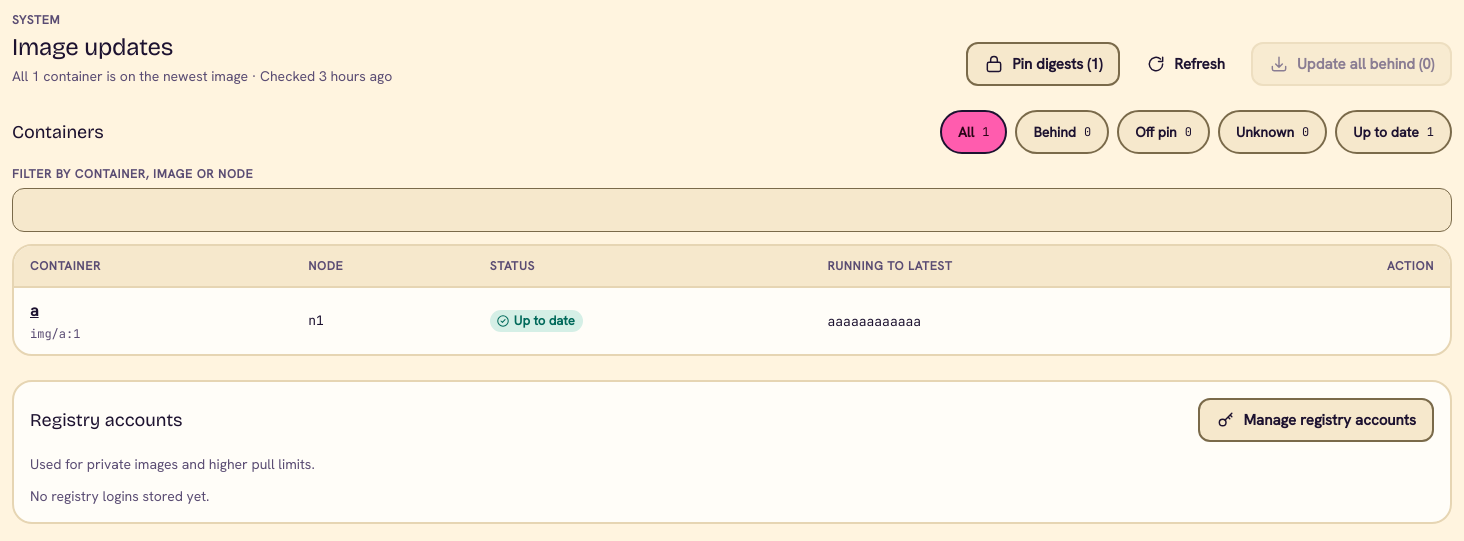
Test: Updates page › shows when the registries were last checked and refreshes on request
The image size is (1464, 541).
Expected: the text "All 1 container is on the newest image · Checked 3 hours ago" is shown, [12,66,392,86]
Click the button "Refresh" at x=1186, y=64, box [1128,42,1243,86]
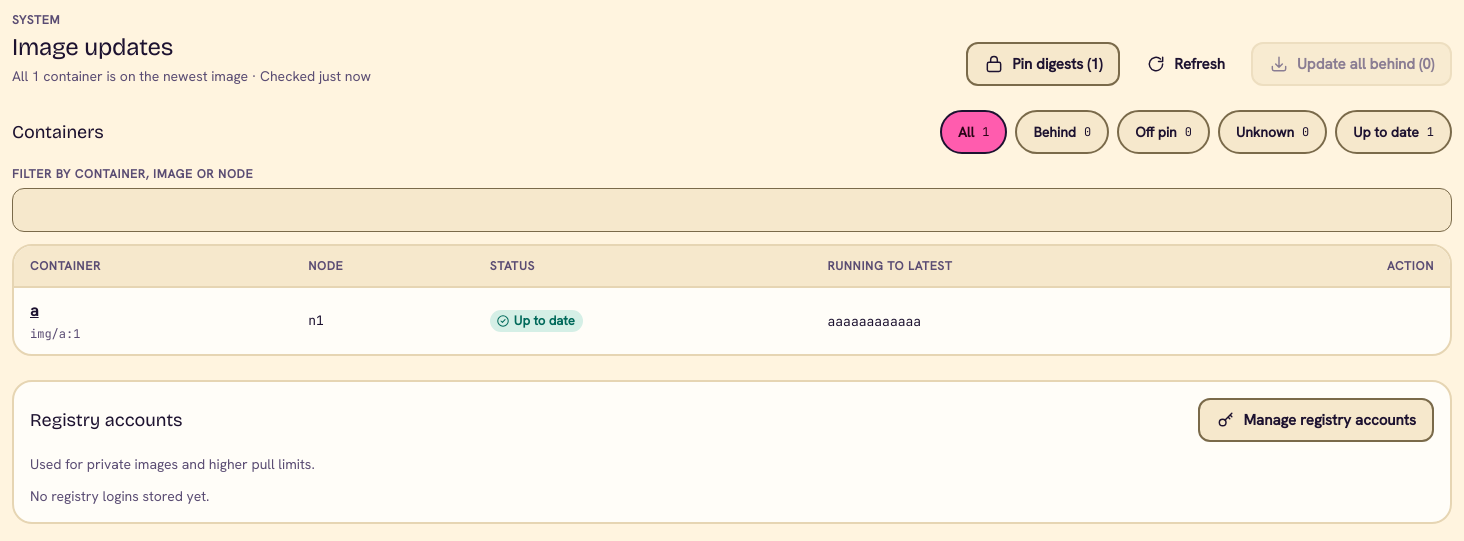
Now the text "All 1 container is on the newest image · Checked just now" is shown, box [12,66,371,86]
